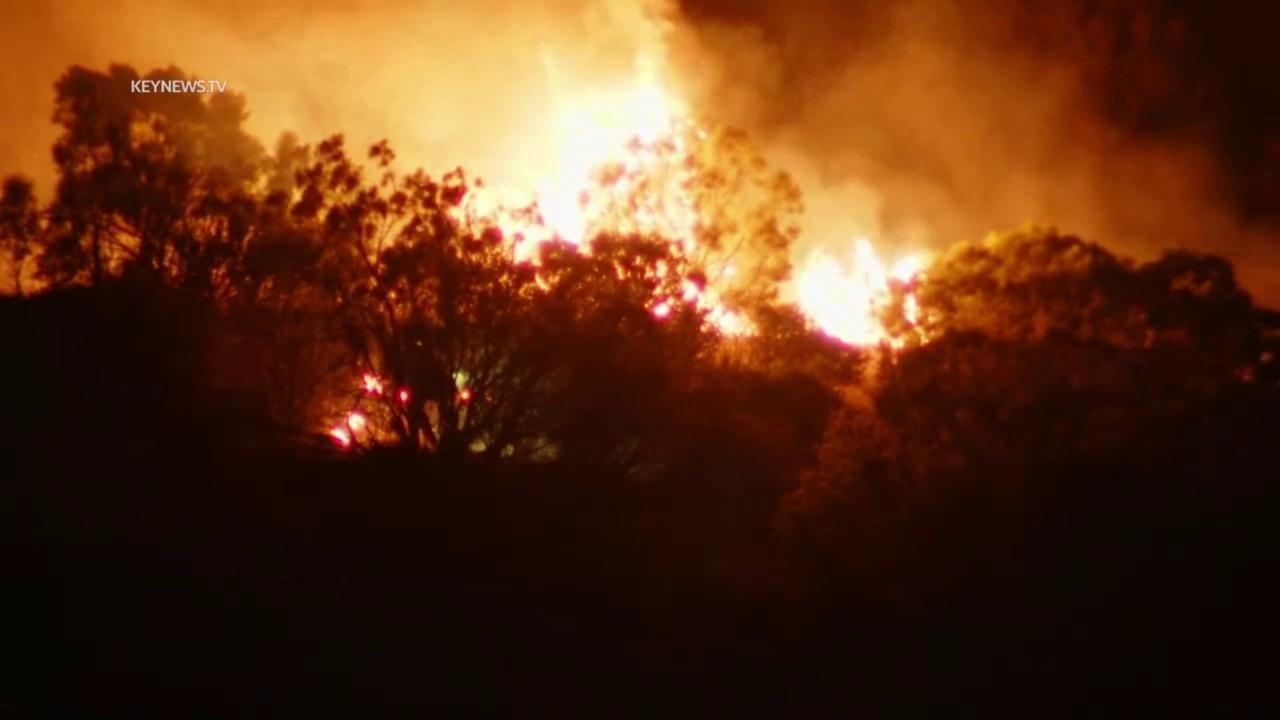fire: (455, 81, 763, 341), (775, 233, 933, 350), (326, 409, 369, 455), (357, 370, 384, 396), (396, 387, 410, 404), (457, 389, 471, 402)
smoke: (0, 0, 1280, 348)
